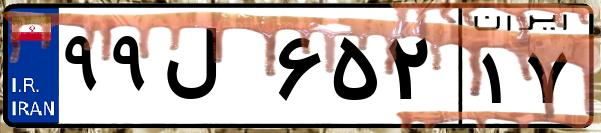1: (475, 38, 525, 113)
2: (385, 28, 445, 110)
5: (330, 28, 385, 110)
6: (270, 28, 330, 110)
7: (525, 38, 570, 115)
9: (57, 26, 110, 100), (110, 28, 158, 98)
ل: (158, 20, 270, 120)
